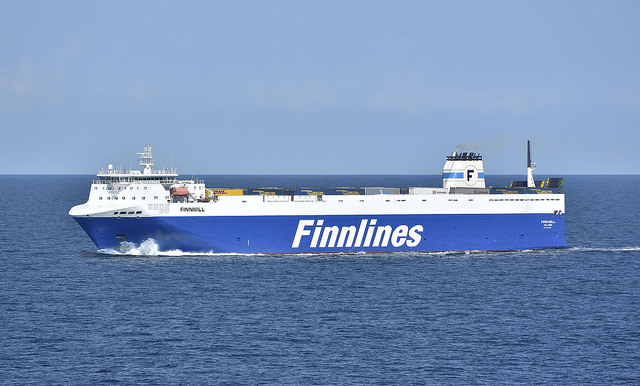PCC: (68, 150, 576, 260)
